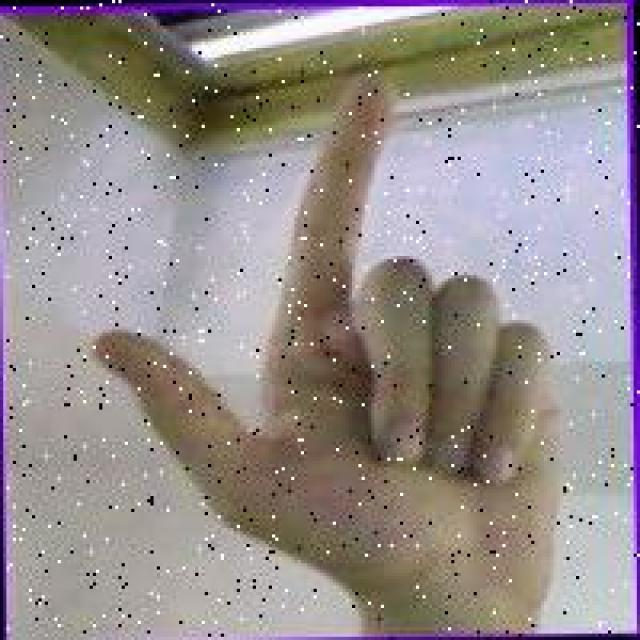L: (84, 59, 566, 613)
